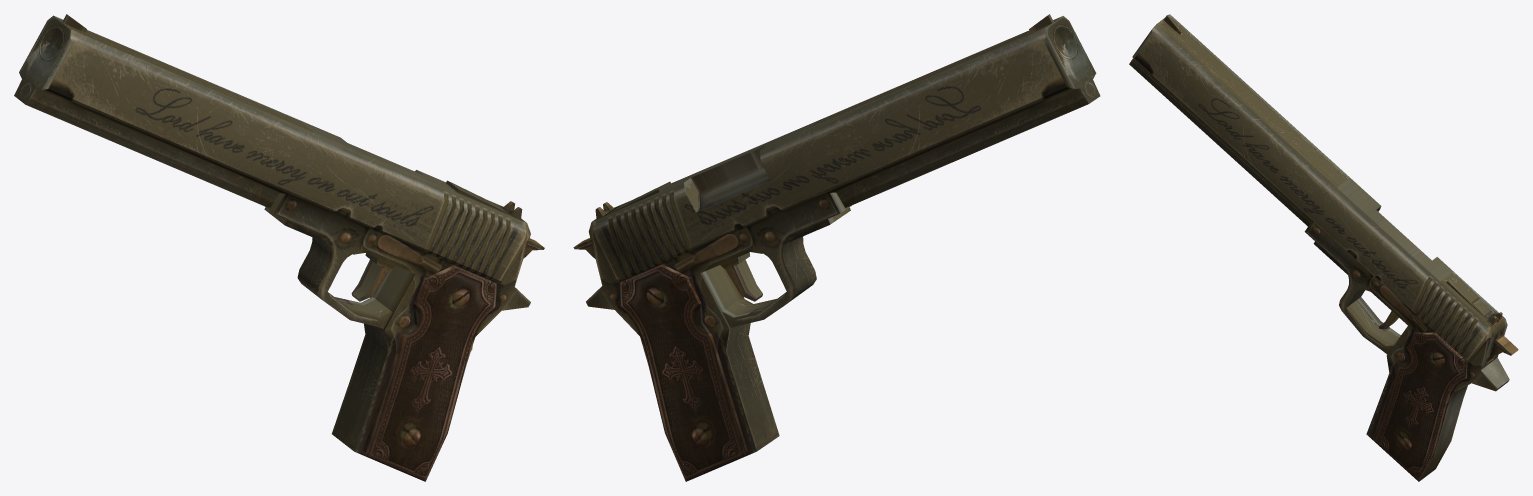
Rendered from pistol.glb.
3 views of the same model, side by side, from view 1: azimuth 30°, elevation 25°; view 2: azimuth 150°, elevation 25°; view 3: azimuth 330°, elevation 25° (orthographic). The views are drawn at different scales.
Parts seen in each view (by area): view 1: w_r.001; view 2: w_r.001; view 3: w_r.001.
Boxes of the visible parts, left/top/right/bottom form: w_r.001: left=14, top=14, right=544, bottom=481; w_r.001: left=573, top=14, right=1100, bottom=481; w_r.001: left=1129, top=14, right=1518, bottom=481.
Bounding box in the file's own units: 0.3028 × 0.3039 × 0.0311.
Materials: 1 (1 with a texture image).
